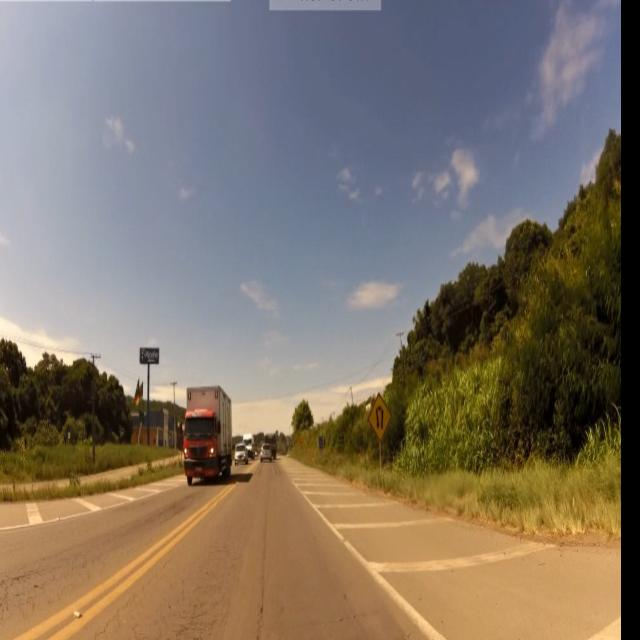A-42a: (368, 391, 392, 440)
